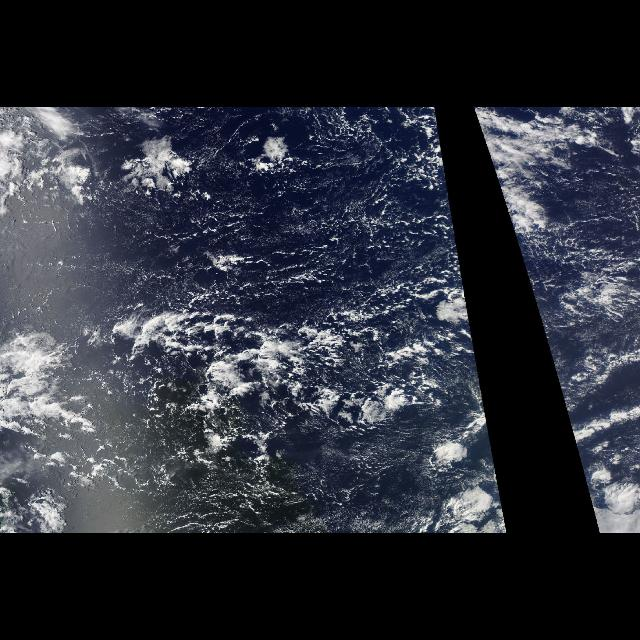Gravel: (20, 116, 472, 478)
